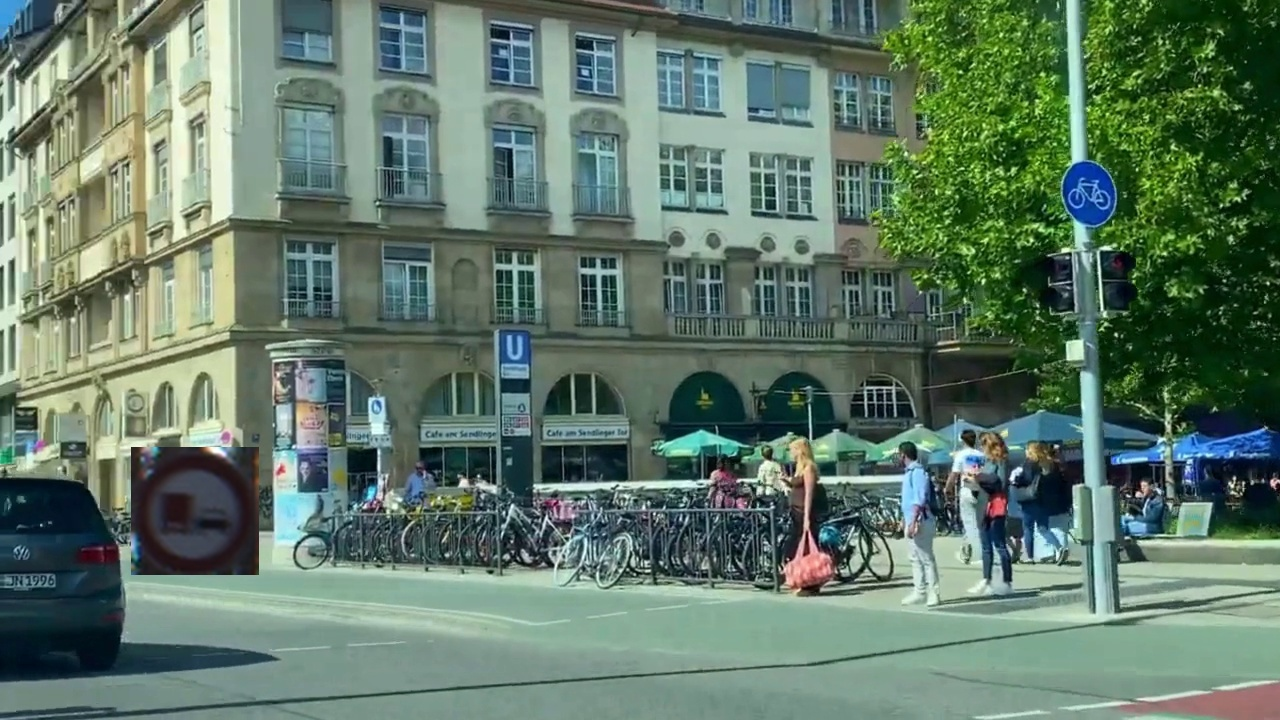No pass >3.5t: (131, 447, 259, 575)
